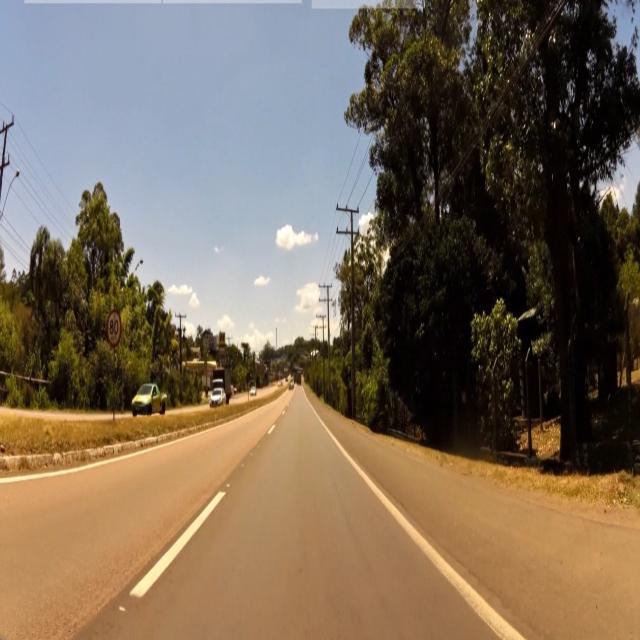R-19: (106, 309, 122, 350)
